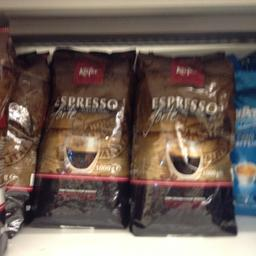coffee: (22, 46, 132, 231), (132, 50, 236, 236)
